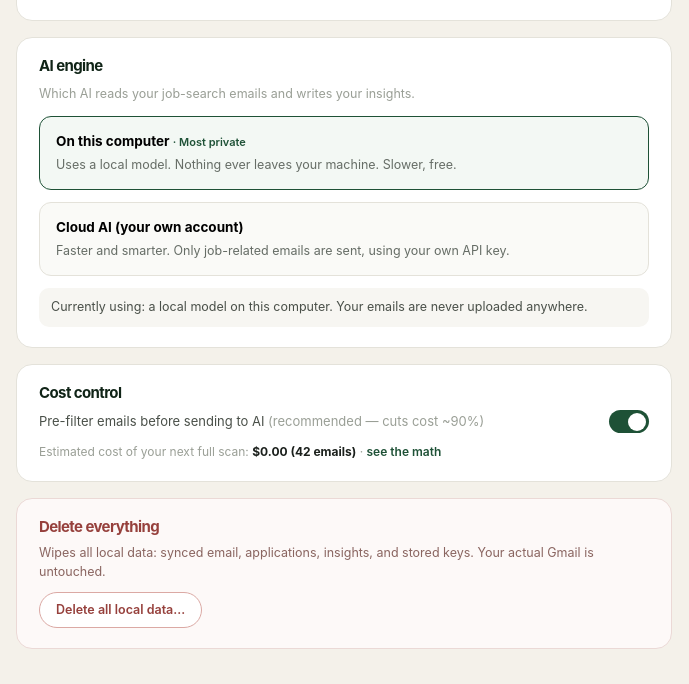
Test: SettingsPage cost control › reveals the real cost-estimate math behind the scan cost figure instead of a fabricated explanation
The image size is (689, 684).
(page scrolled)
Expected: the text "12,000 prompt" is not shown
Click the button "see the math" at (404, 452), box [366,443,441,461]
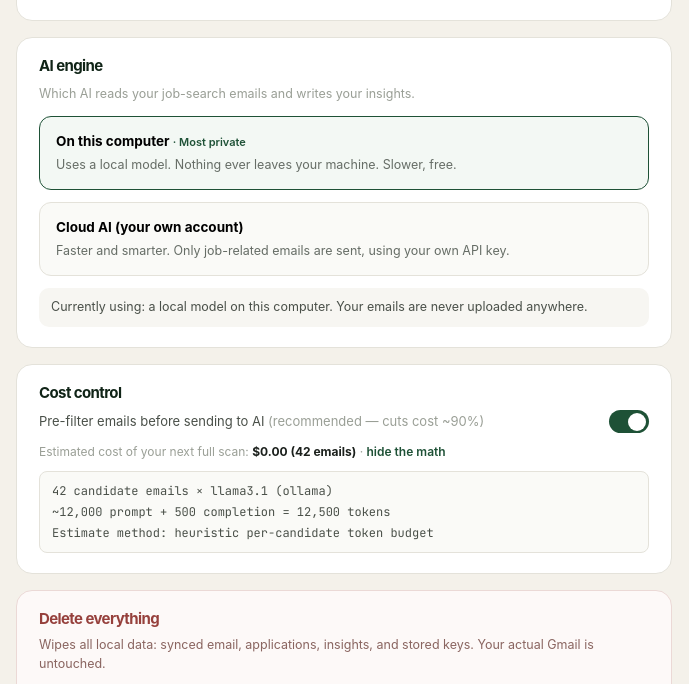
Expected: the text "~12,000 prompt + 500 completion = 12,500 tokens" is shown, [52,504,390,520]
Expected: the text "42 candidate emails × llama3.1 (ollama)" is shown, [52,483,333,499]
Expected: the button "hide the math" is shown, [366,443,446,461]
